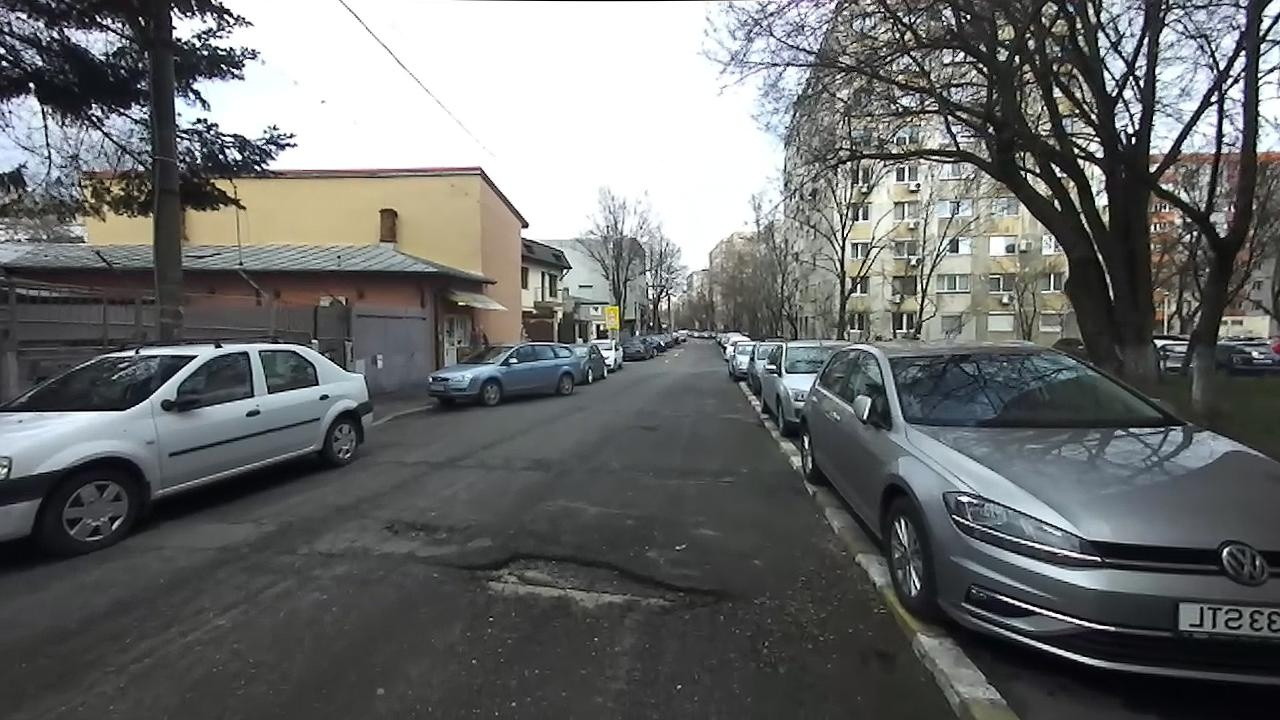pothole: (445, 546, 737, 614), (372, 513, 465, 545), (688, 473, 737, 486)
